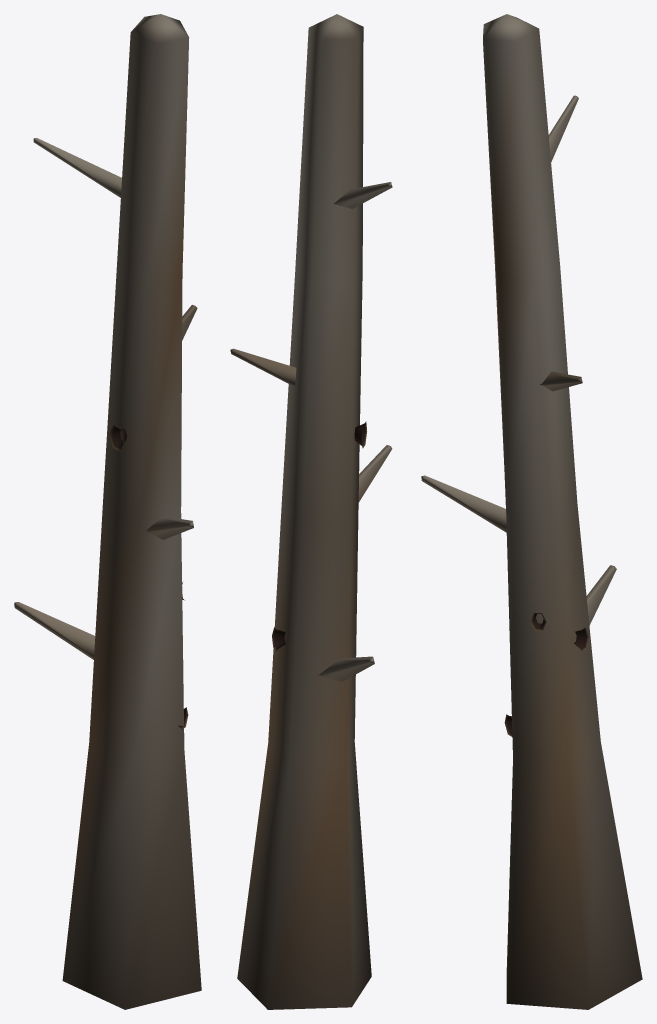
File: snag-c.lod2.glb
3 views of the same model, side by side, from view 1: azimuth 30°, elevation 25°; view 2: azimuth 150°, elevation 25°; view 3: azimuth 270°, elevation 25° (orthographic). The views are drawn at different scales.
Size of the model in its own units: 1.34 by 7.64 by 1.58.
